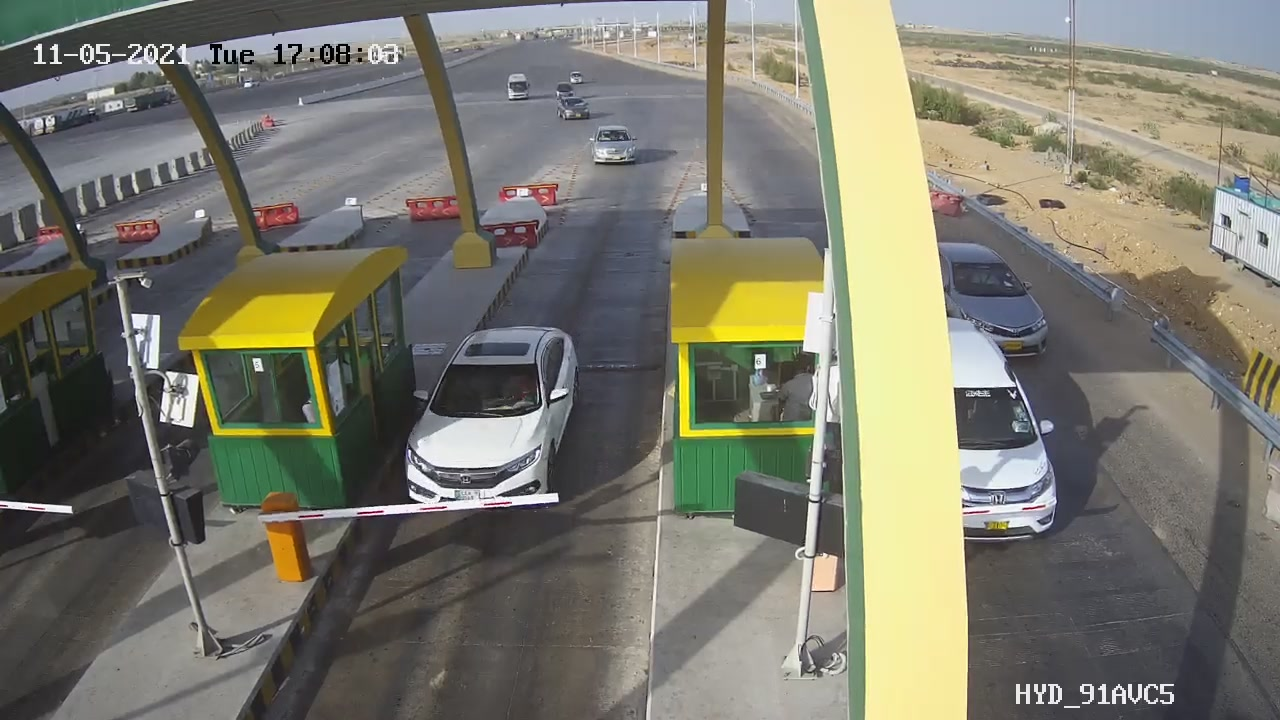F1: (378, 300, 603, 538)
